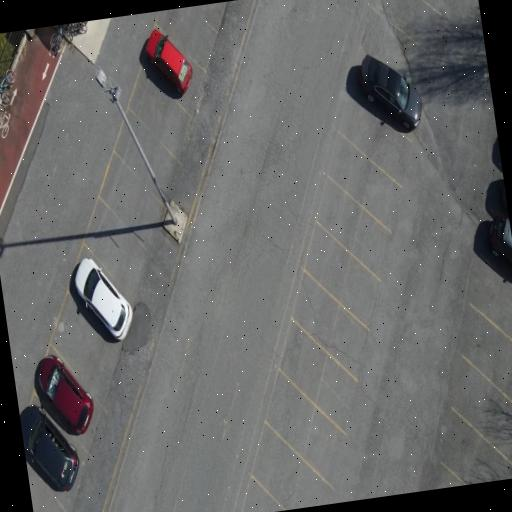car: (20, 406, 78, 491), (74, 258, 131, 340), (359, 55, 421, 130), (39, 355, 93, 433), (145, 30, 191, 93), (489, 215, 511, 264), (502, 185, 508, 215)
